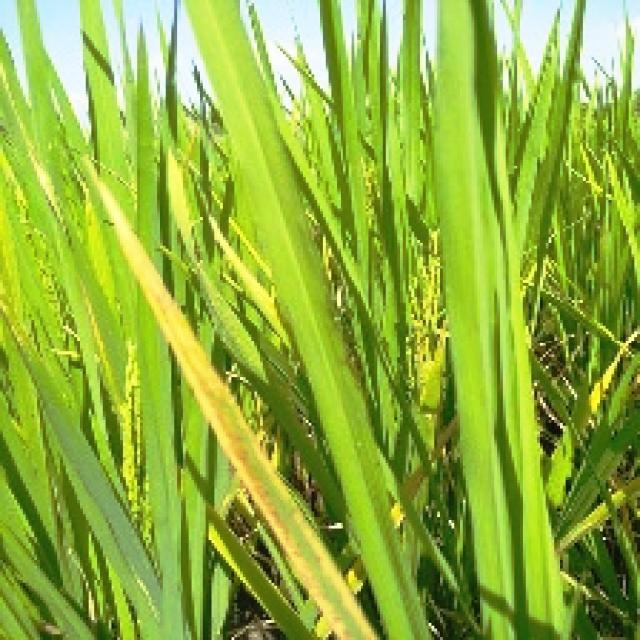health: (0, 45, 197, 640)
